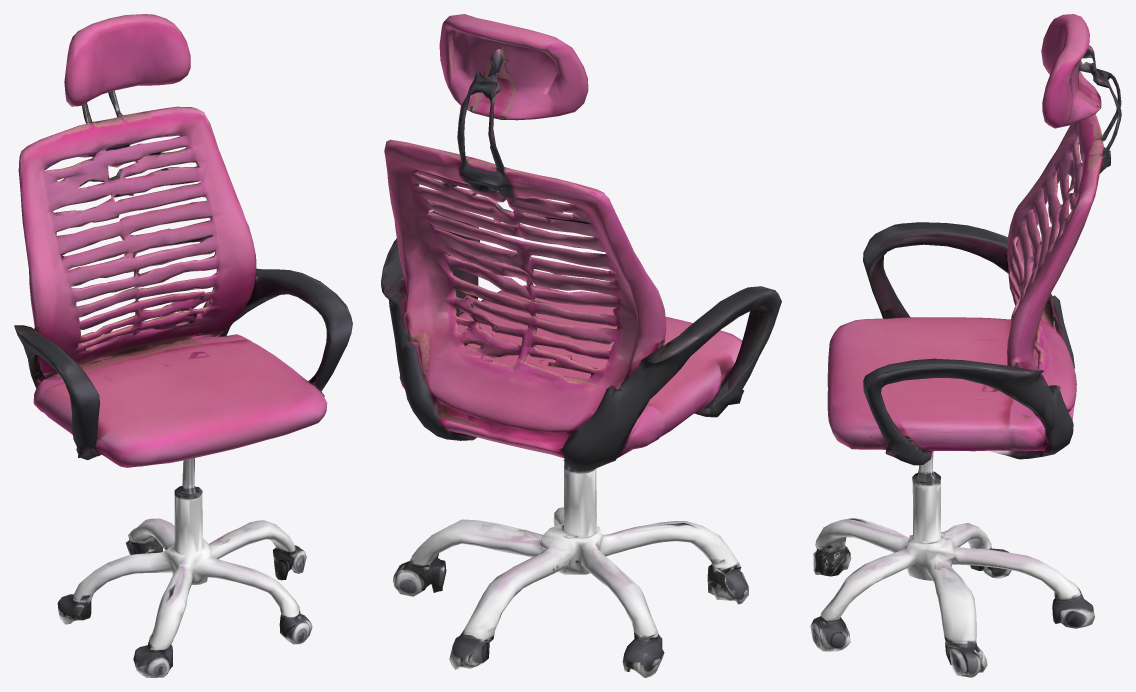
The picture shows the model from 3 angles, left to right: view 1: azimuth 30°, elevation 25°; view 2: azimuth 150°, elevation 25°; view 3: azimuth 270°, elevation 25°; orthographic projection. The views are drawn at different scales.
Parts seen in each view (by area): view 1: Mesh_0; view 2: Mesh_0; view 3: Mesh_0.
Boxes of the visible parts, x1,y1,x2,y2 form: Mesh_0: (14, 14, 352, 677); Mesh_0: (381, 14, 781, 677); Mesh_0: (810, 14, 1121, 677).
Bounding box in the file's own units: 0.5901 × 1.1 × 0.5269.
1 material, 1 textured.
